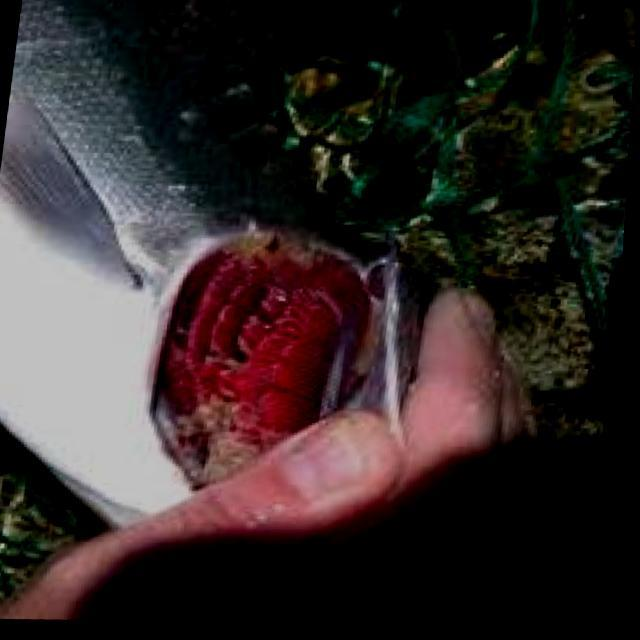Gill Disease: (54, 170, 427, 507)
